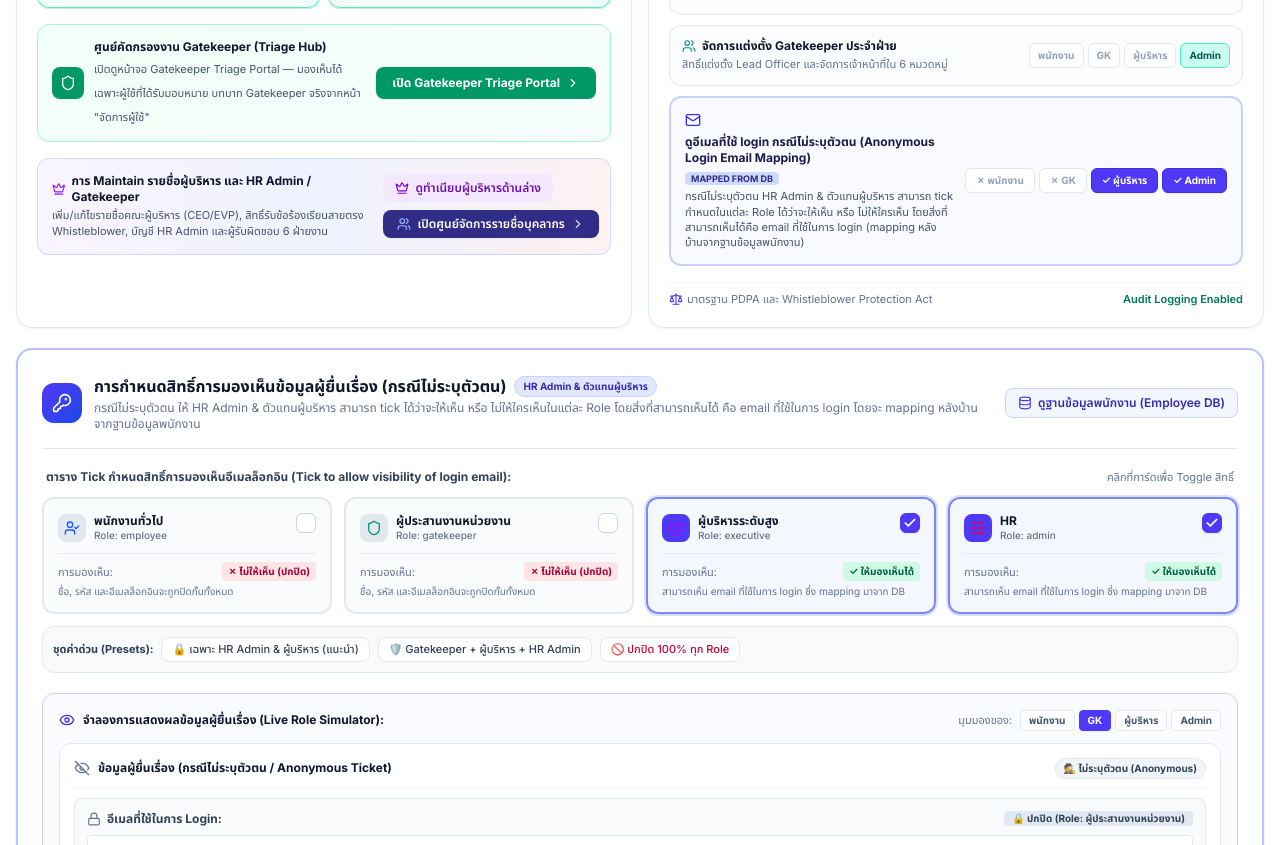
Scenario: RoleBasedAccessManagement › employee directory › shows a notice when the HR database cannot be reached
This screenshot has width=1280, height=845.
(page scrolled)
Click the button "ดูฐานข้อมูลพนักงาน (Employee DB)".
click(1122, 403)  # box left=1005, top=388, right=1238, bottom=418
(page scrolled)
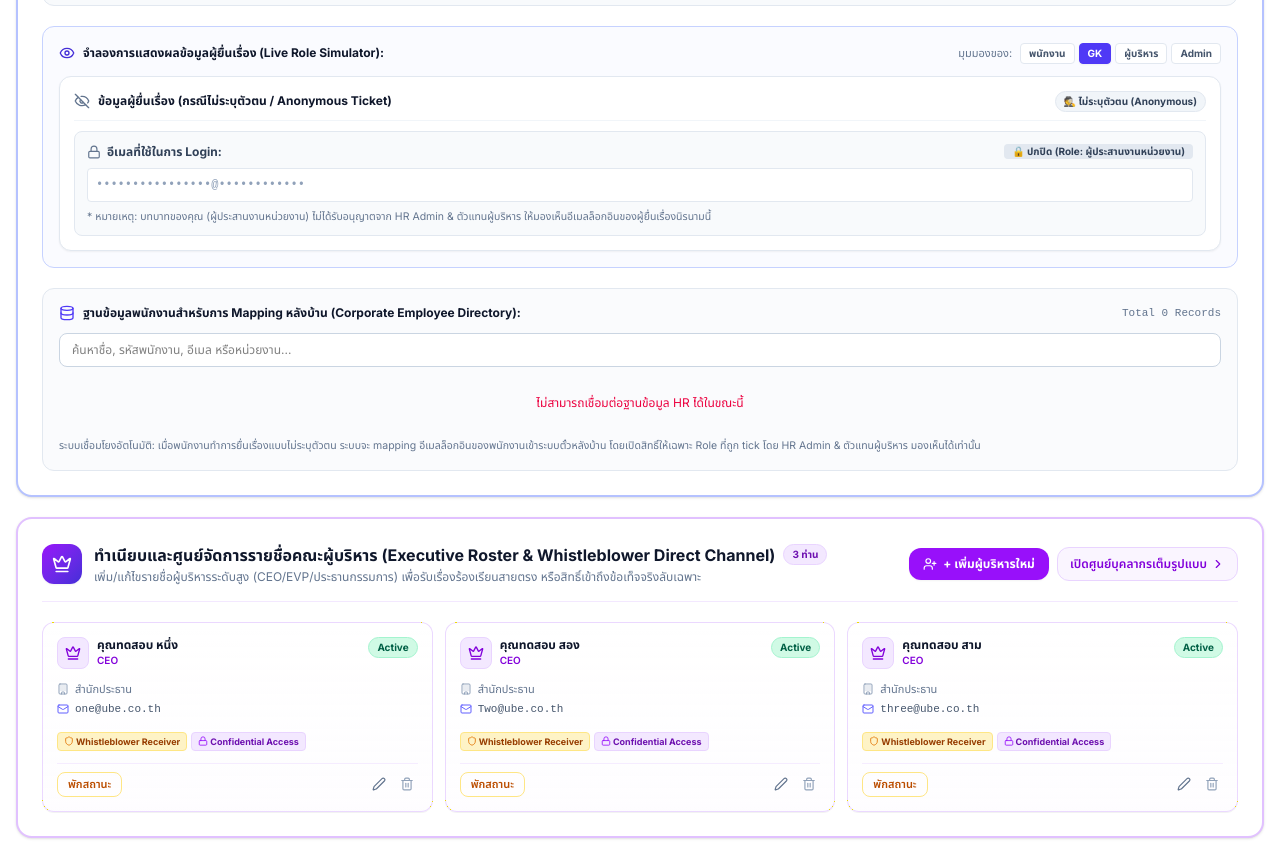
Expected: the text "ไม่สามารถเชื่อมต่อฐานข้อมูล HR ได้ในขณะนี้" is shown, left=536, top=395, right=744, bottom=410
